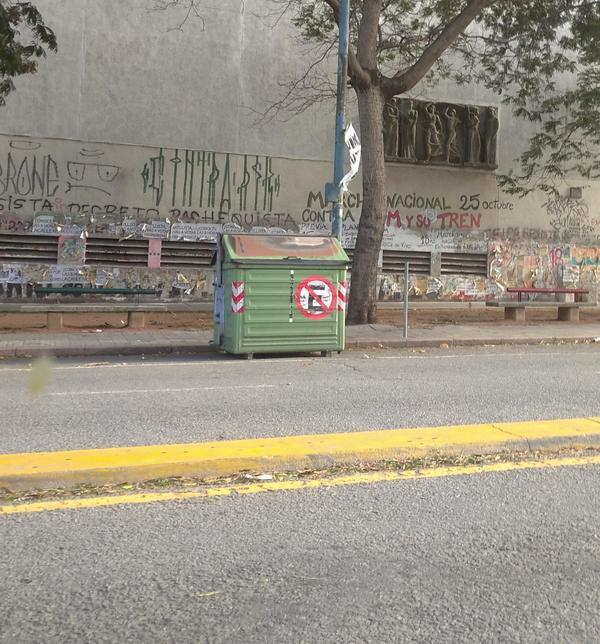Trash: (212, 233, 349, 357)
